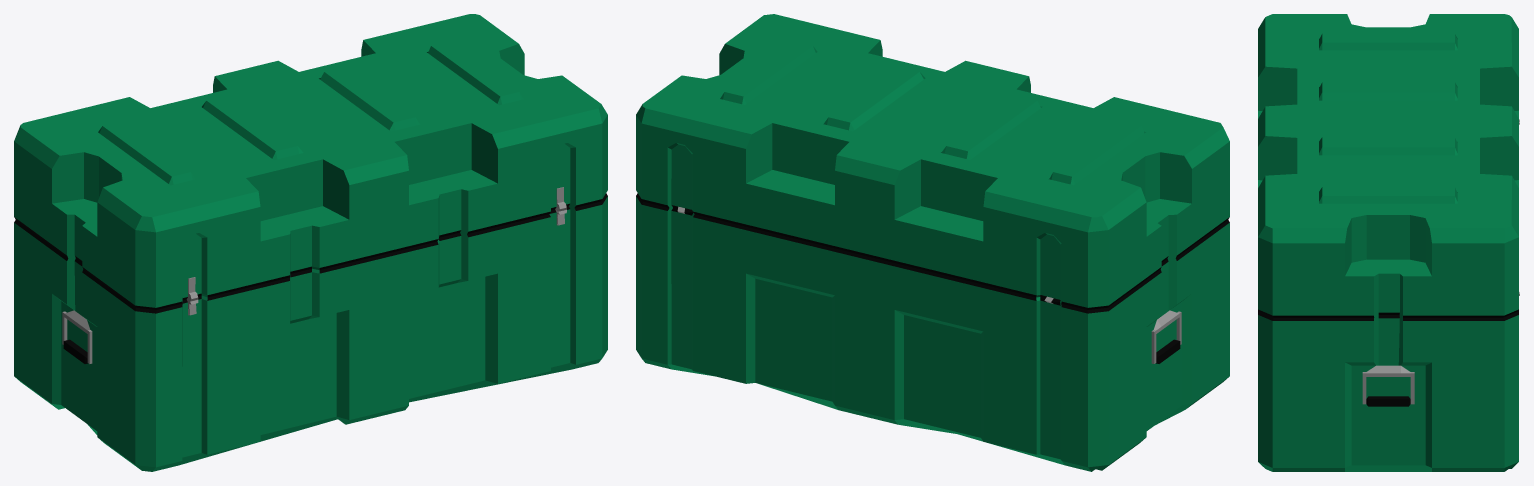
File: MilitaryCrate.fbx
3 views of the same model, side by side, from view 1: azimuth 30°, elevation 25°; view 2: azimuth 150°, elevation 25°; view 3: azimuth 270°, elevation 25° (orthographic). The views are drawn at different scales.
Visible parts, largest first — view 1: Cube; view 2: Cube; view 3: Cube.
Part boxes in pixels (bbox=[...]): Cube: bbox=[14, 14, 607, 471]; Cube: bbox=[636, 14, 1229, 471]; Cube: bbox=[1258, 14, 1519, 471].
Bounding box in the file's own units: 401 × 211 × 201.
